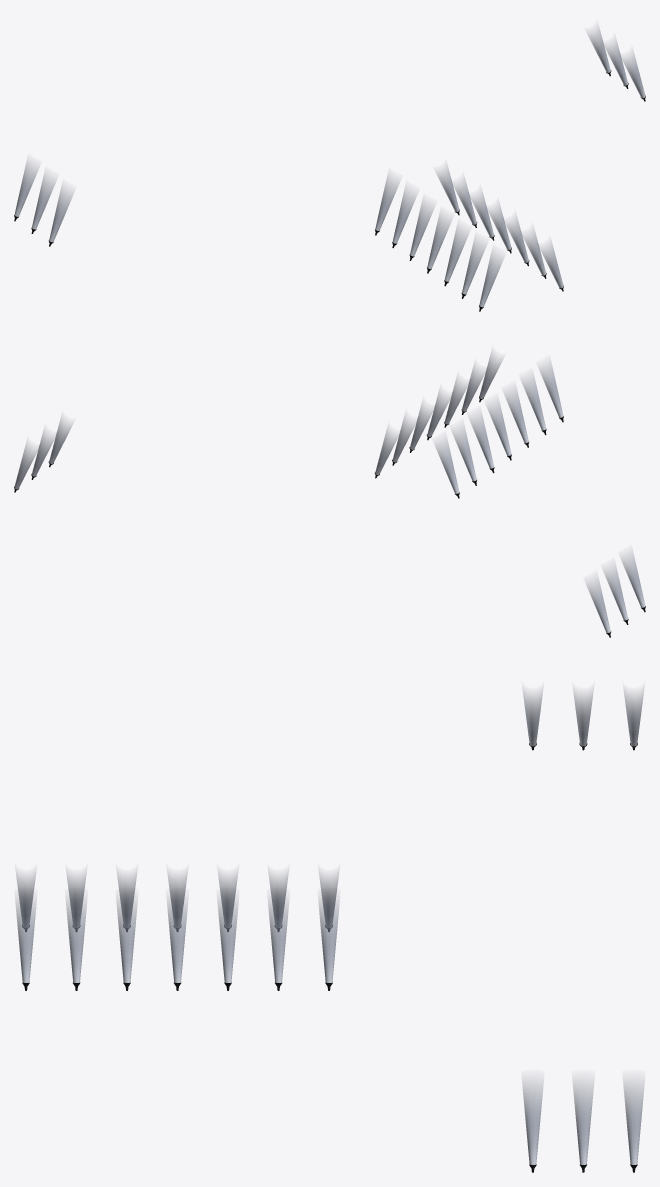
File: runwayLights.glb
The picture shows the model from 3 angles, top to bottom: view 1: azimuth 30°, elevation 25°; view 2: azimuth 150°, elevation 25°; view 3: azimuth 270°, elevation 25°; orthographic projection. The views are drawn at different scales.
Parts seen in each view (by area): view 1: Cylinder, Cylinder.017; view 2: Cylinder, Cylinder.017; view 3: Cylinder, Cylinder.017.
Boxes of the visible parts, <box> form: Cylinder: <box>375,165,563,311</box>; Cylinder.017: <box>14,26,645,246</box>; Cylinder: <box>374,352,563,498</box>; Cylinder.017: <box>14,417,645,637</box>; Cylinder: <box>16,871,339,990</box>; Cylinder.017: <box>522,689,643,1172</box>.
Bounding box in the file's own units: 39.12 × 4.06 × 24.65.
Materials: 3 (3 with a texture image).
